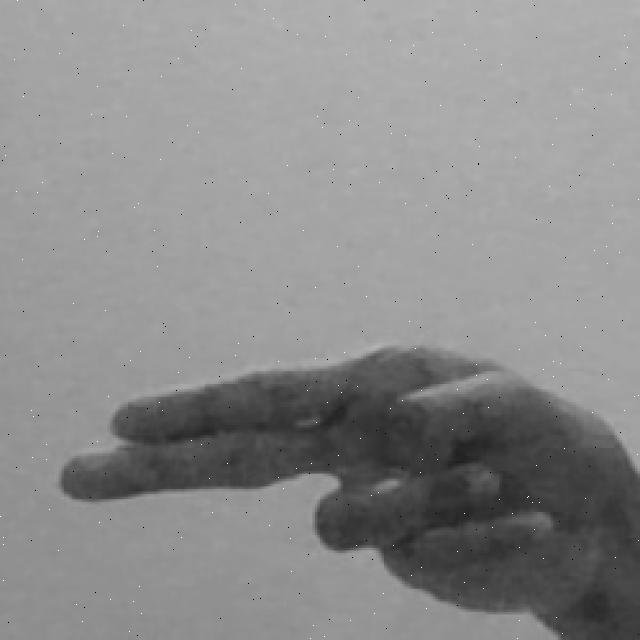H: (53, 337, 640, 640)
